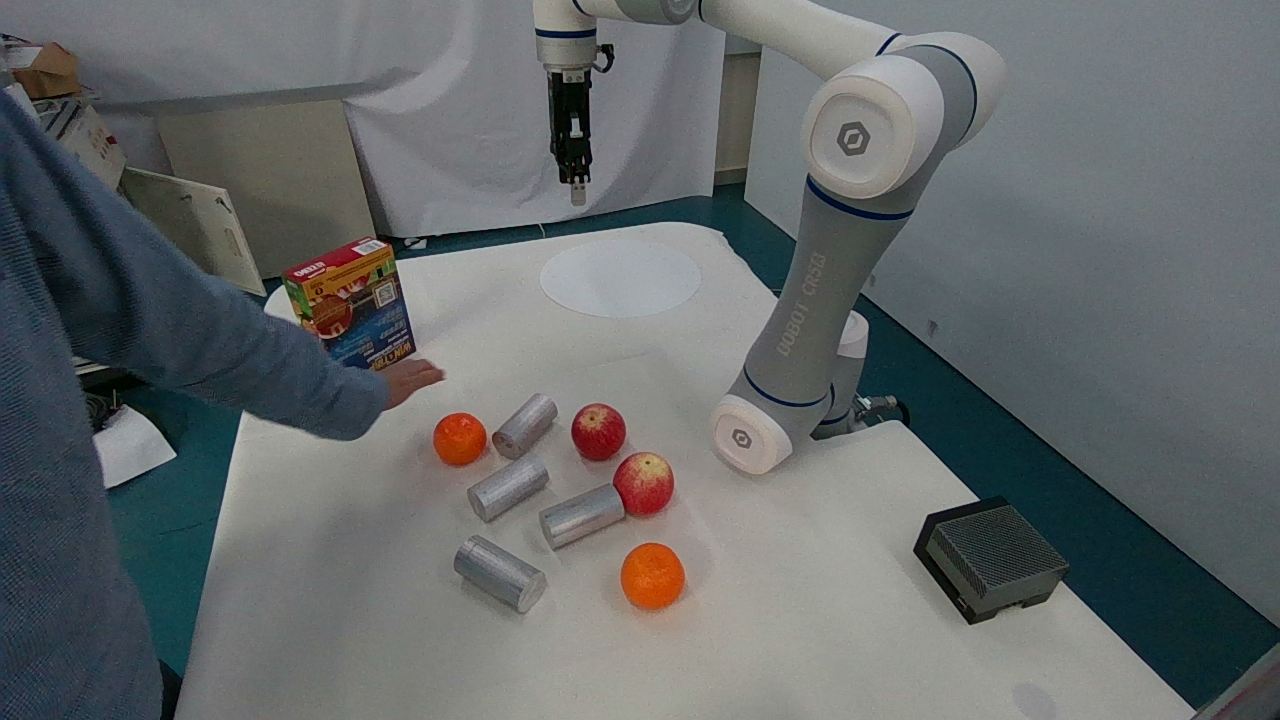apple: (603, 448, 689, 525), (558, 395, 632, 468)
metal rod: (448, 527, 550, 622), (450, 454, 570, 521), (536, 482, 637, 558), (481, 385, 563, 467)
orange: (610, 528, 691, 620), (423, 405, 496, 480)
